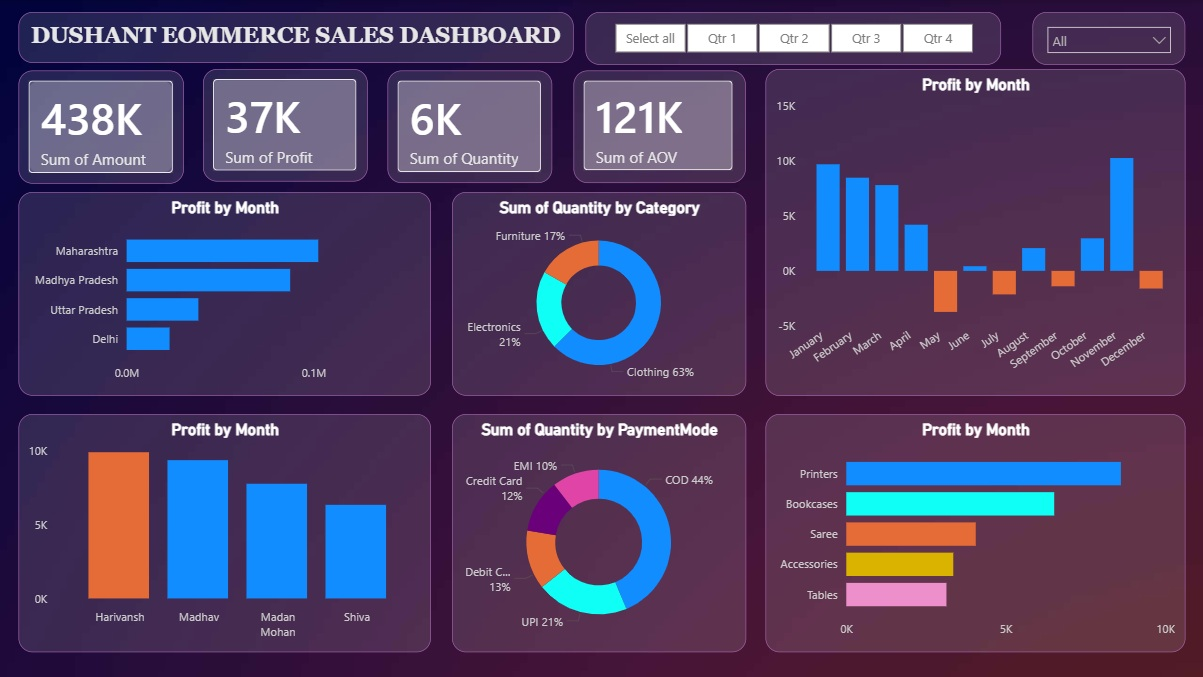

The dashboard page shown, as its layout file describes it:
{"tool":"powerbi","page":{"name":"Page 1","canvas":[1280,720],"ordinal":0},"visuals":[{"type":"columnChart","title":"Profit by Month","fields":{"Category":["Orders.Order Date.Variation.Date Hierarchy.Month"],"Y":["Details.Profit"]},"box":[812.8,73.2,445.4,346.8],"z":0},{"type":"textbox","box":[20.7,12.7,588.5,54.1],"z":1000},{"type":"barChart","title":"Profit by Month","fields":{"Y":["Details.Profit"],"Category":["Details.Sub-Category"]},"box":[812.8,439,445.4,252.9],"z":2000},{"type":"donutChart","fields":{"Category":["Details.Category"],"Y":["Details.Quantity"]},"box":[480.4,203.6,311.8,216.3],"z":3000},{"type":"donutChart","fields":{"Y":["Details.Quantity"],"Category":["Details.PaymentMode"]},"box":[480.4,439,311.8,252.9],"z":4000},{"type":"cardVisual","fields":{"Data":["Details.Amount"]},"box":[20.7,74,175,120],"z":5000},{"type":"cardVisual","fields":{"Data":["Details.Profit"]},"box":[216.3,73.2,175,119.3],"z":6000},{"type":"cardVisual","fields":{"Data":["Details.AOV"]},"box":[609.2,74.8,182.9,119.3],"z":7000},{"type":"cardVisual","fields":{"Data":["Details.Quantity"]},"box":[412,74.8,175,119.3],"z":8000},{"type":"barChart","title":"Profit by Month","fields":{"Y":["Details.Amount"],"Category":["Orders.State"]},"box":[20.7,203.6,437.4,216.3],"z":9000},{"type":"columnChart","title":"Profit by Month","fields":{"Category":["Orders.CustomerName"],"Y":["Details.Amount"]},"box":[20.7,439,437.4,252.9],"z":10000},{"type":"slicer","fields":{"Values":["Orders.Order Date.Variation.Date Hierarchy.Quarter"]},"box":[621.9,12.7,440.6,55.7],"z":11000},{"type":"slicer","fields":{"Values":["Orders.State"]},"box":[1095.9,12.7,162.2,55.7],"z":12000}]}

Visuals, with their boxes in screenshot pixels (x1, y1, x2, y2), scaled from the page's 1280x720 canvas onto the 1203x677 screenshot:
"Profit by Month" columnChart: left=764, top=69, right=1183, bottom=395
textbox: left=19, top=12, right=573, bottom=63
"Profit by Month" barChart: left=764, top=413, right=1183, bottom=651
donutChart - Details.Category x Details.Quantity: left=452, top=191, right=745, bottom=395
donutChart - Details.Quantity x Details.PaymentMode: left=452, top=413, right=745, bottom=651
cardVisual - Details.Amount: left=19, top=70, right=184, bottom=182
cardVisual - Details.Profit: left=203, top=69, right=368, bottom=181
cardVisual - Details.AOV: left=573, top=70, right=744, bottom=183
cardVisual - Details.Quantity: left=387, top=70, right=552, bottom=183
"Profit by Month" barChart: left=19, top=191, right=431, bottom=395
"Profit by Month" columnChart: left=19, top=413, right=431, bottom=651
slicer - Orders.Order Date.Variation.Date Hierarchy.Quarter: left=584, top=12, right=999, bottom=64
slicer - Orders.State: left=1030, top=12, right=1182, bottom=64
